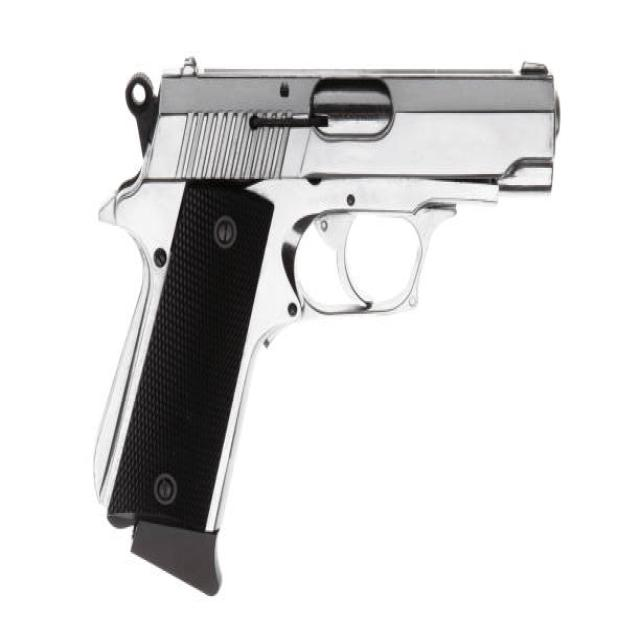pistol: (90, 49, 573, 613)
